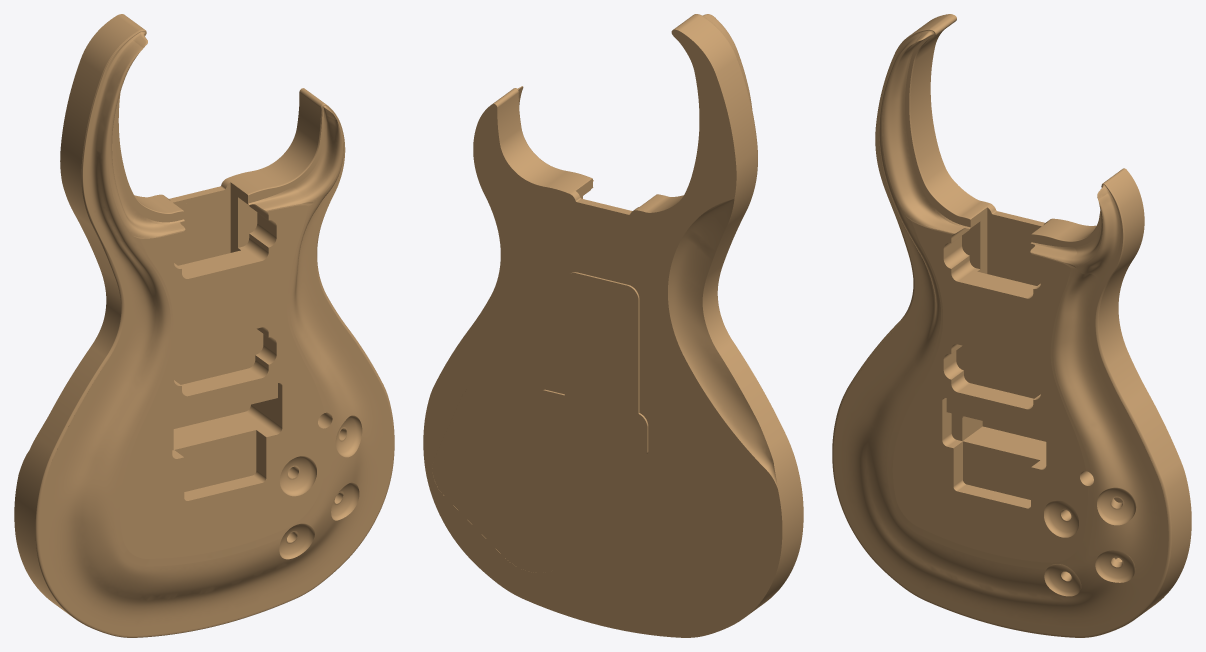
File: matadaur_tremolo.glb
The picture shows the model from 3 angles, left to right: view 1: azimuth 30°, elevation 25°; view 2: azimuth 150°, elevation 25°; view 3: azimuth 330°, elevation 25°; orthographic projection. The views are drawn at different scales.
Parts seen in each view (by area): view 1: matadaur_tremolo; view 2: matadaur_tremolo; view 3: matadaur_tremolo.
Boxes of the visible parts, x1=… form: matadaur_tremolo: x1=14, y1=14, x2=394, y2=637; matadaur_tremolo: x1=423, y1=14, x2=803, y2=637; matadaur_tremolo: x1=832, y1=14, x2=1191, y2=637.
Size of the model in its own units: 0.3111 by 0.5084 by 0.0489.
